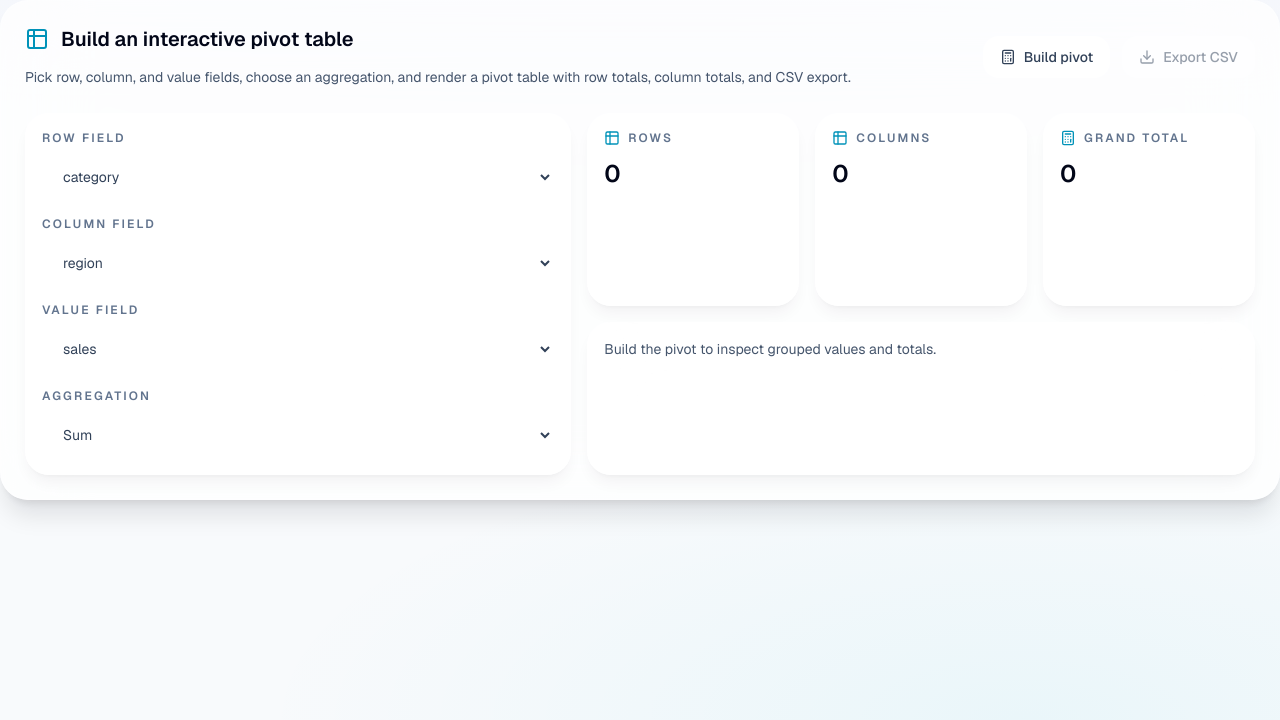
Test: PivotTableBuilder › builds the pivot table with totals
This screenshot has width=1280, height=720.
What coordinates should you click on to do the following:
click the button "Build pivot"
I would click on:
 (1046, 57)
Its box is x1=983 y1=36 x2=1110 y2=78.
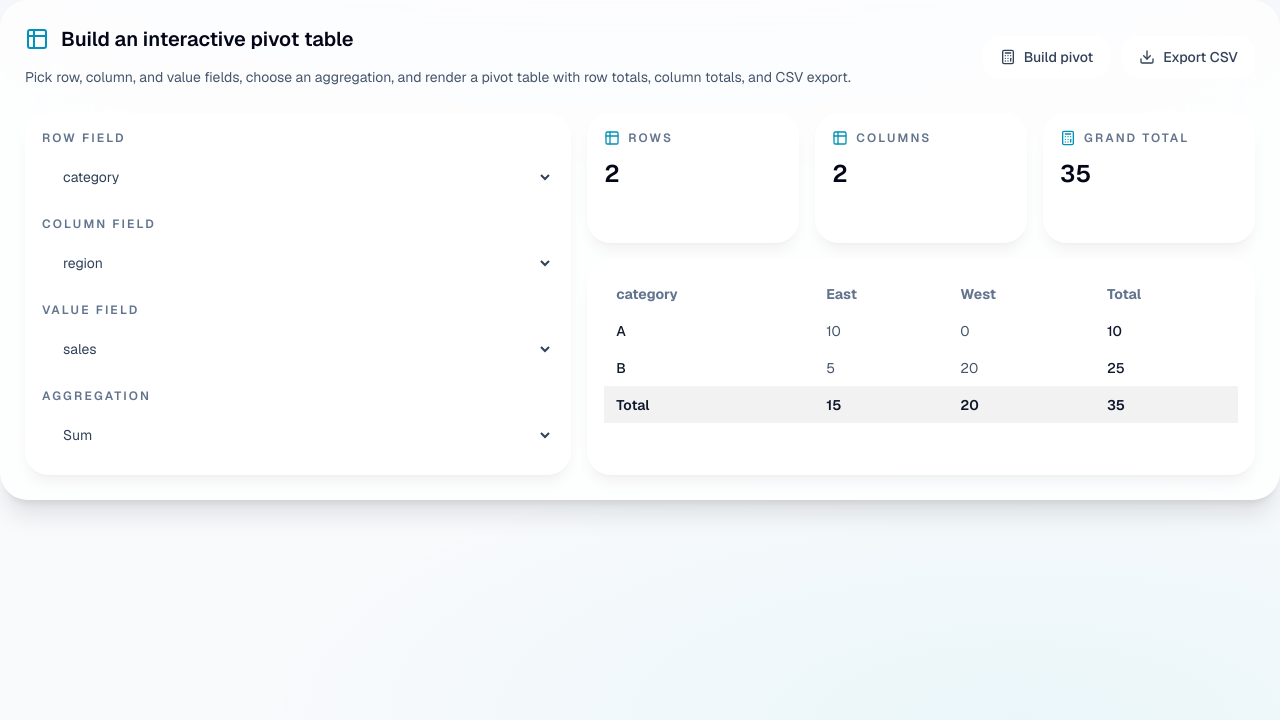
Now the text "A" is shown, box x1=604 y1=312 x2=814 y2=349
Now the text "35" is shown, box x1=1060 y1=158 x2=1091 y2=189
Now the column heading "East" is shown, box x1=814 y1=276 x2=948 y2=312
